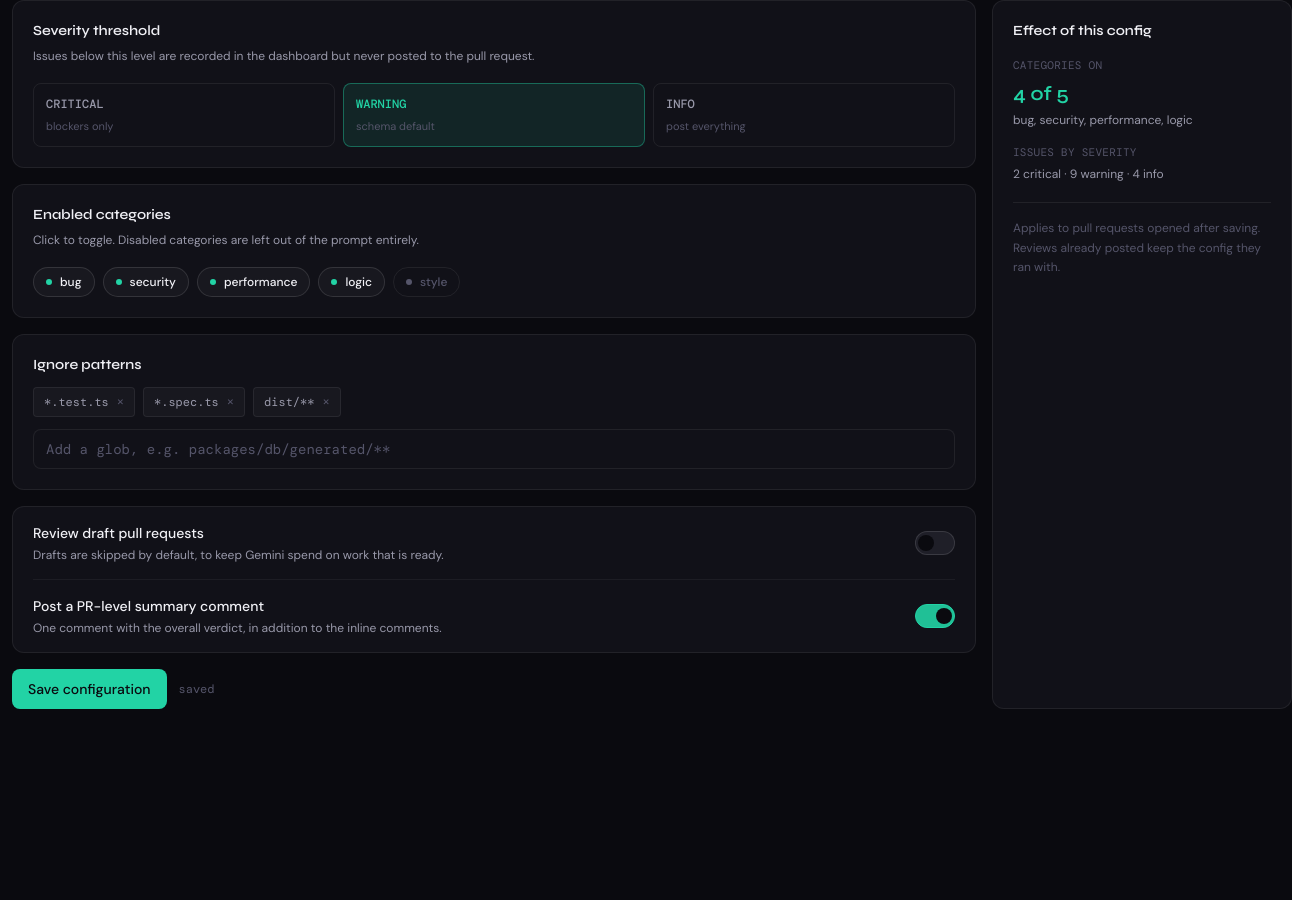
Test: RepoConfigPanel › shows error when all categories are unchecked
Expected: the text "WARNING" is shown, [356,96,406,112]
Click the button "bug".
click(64, 282)  # box [33,266,94,296]
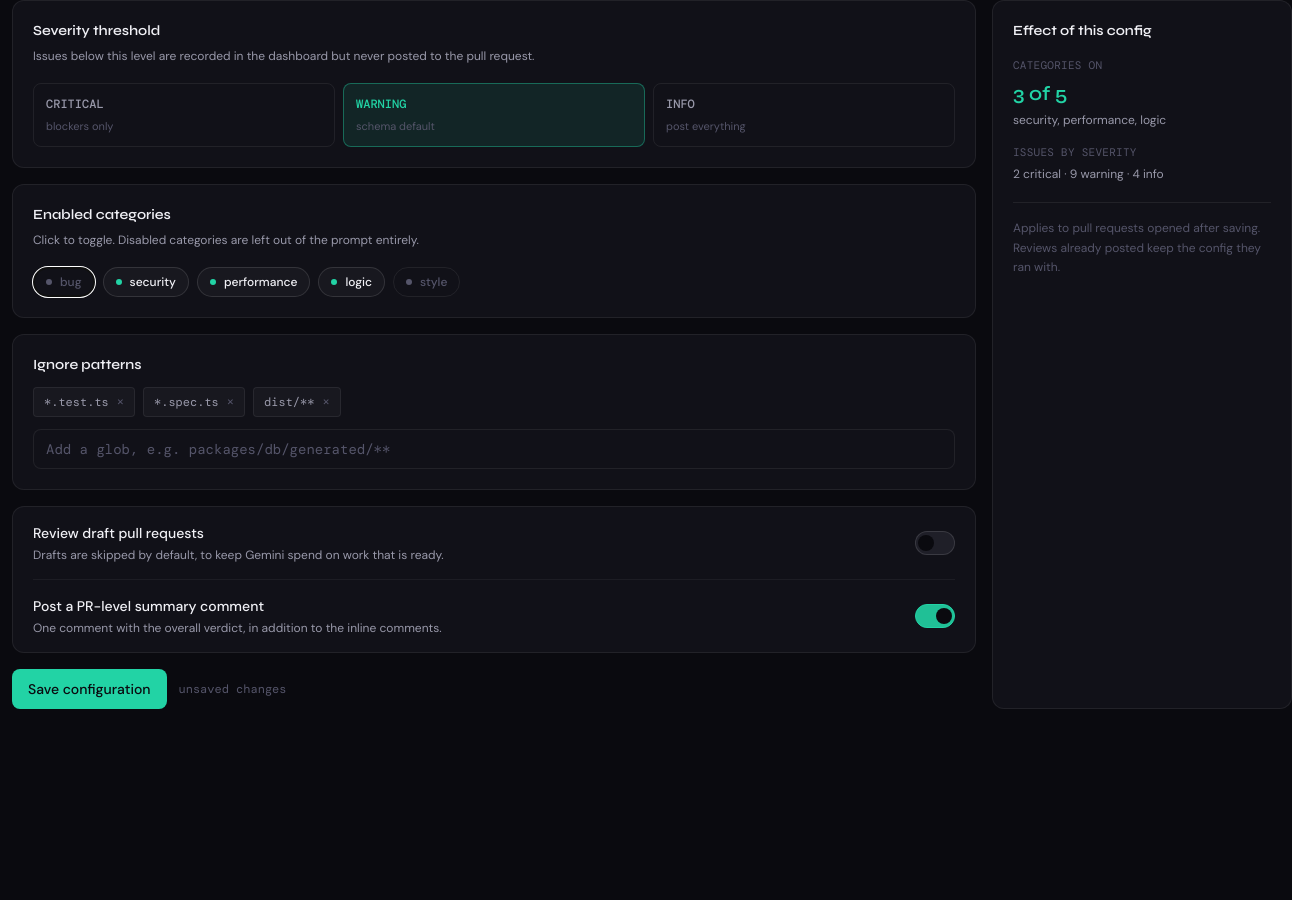
Click the button "security".
click(146, 282)  # box [102,266,189,296]
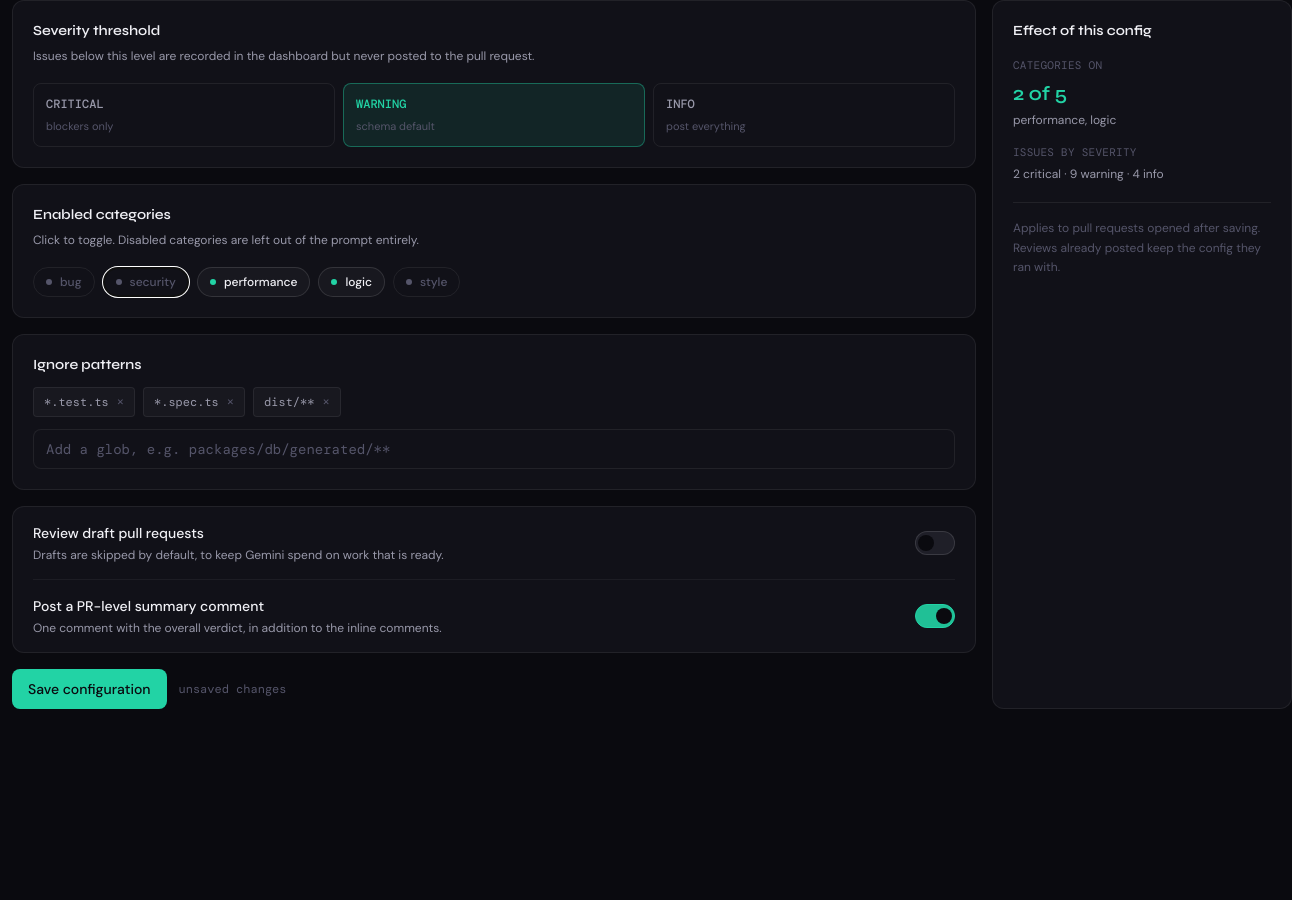
Click the button "performance".
click(254, 282)  # box [197,266,310,296]
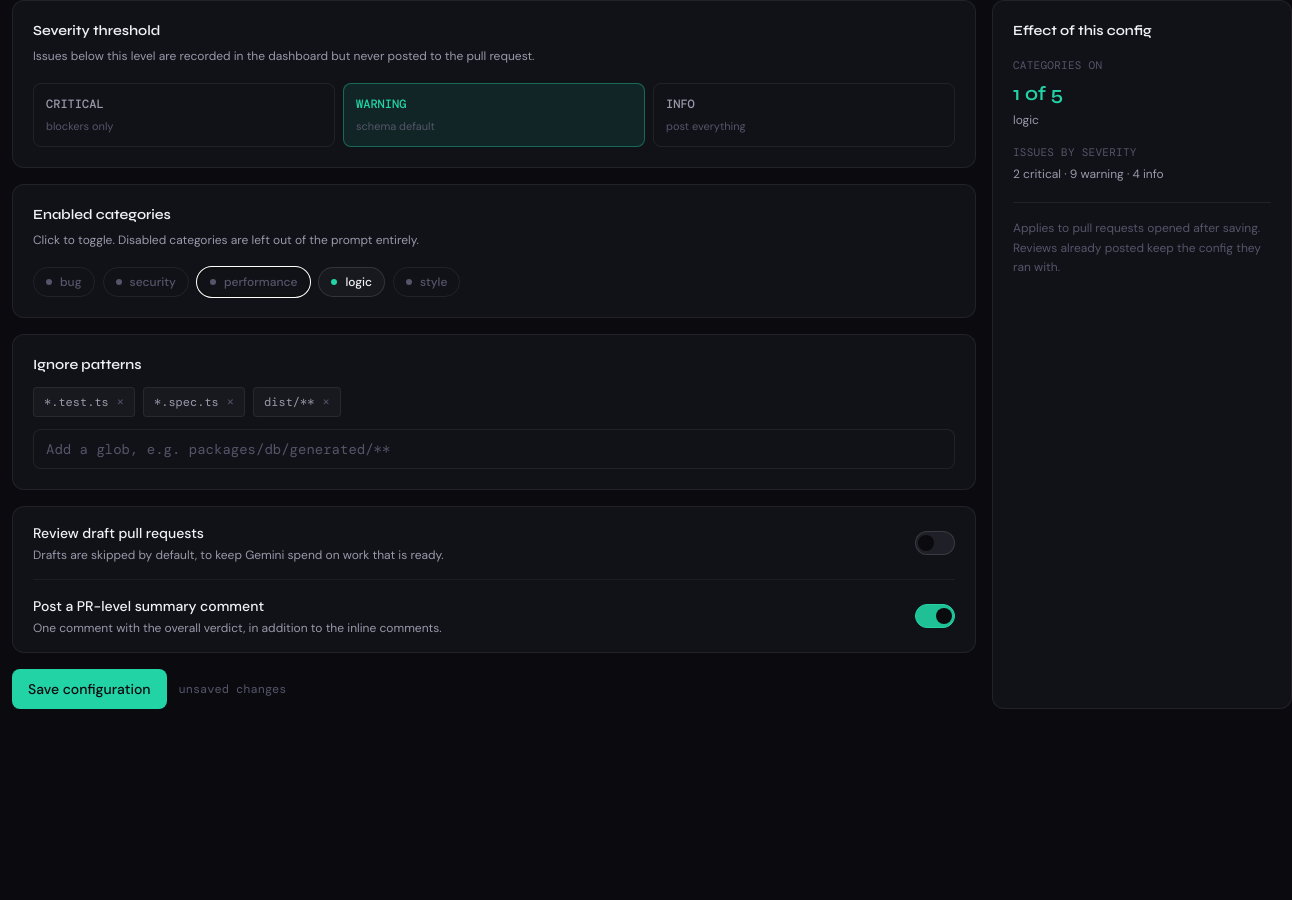
Click the button "logic".
click(352, 282)  # box [318,266,385,296]
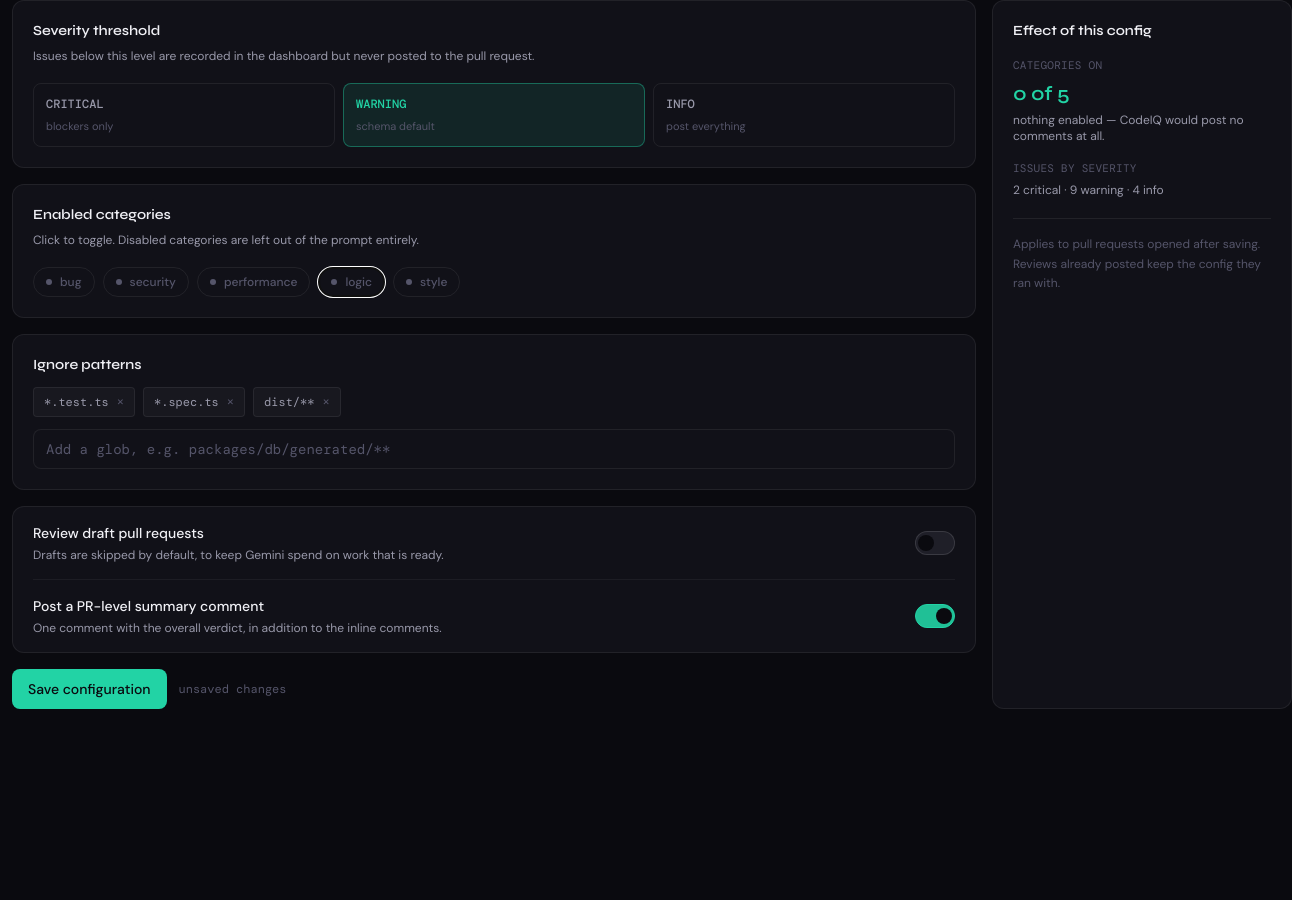
Click the button "Save configuration".
click(89, 688)  # box [12,668,166,708]
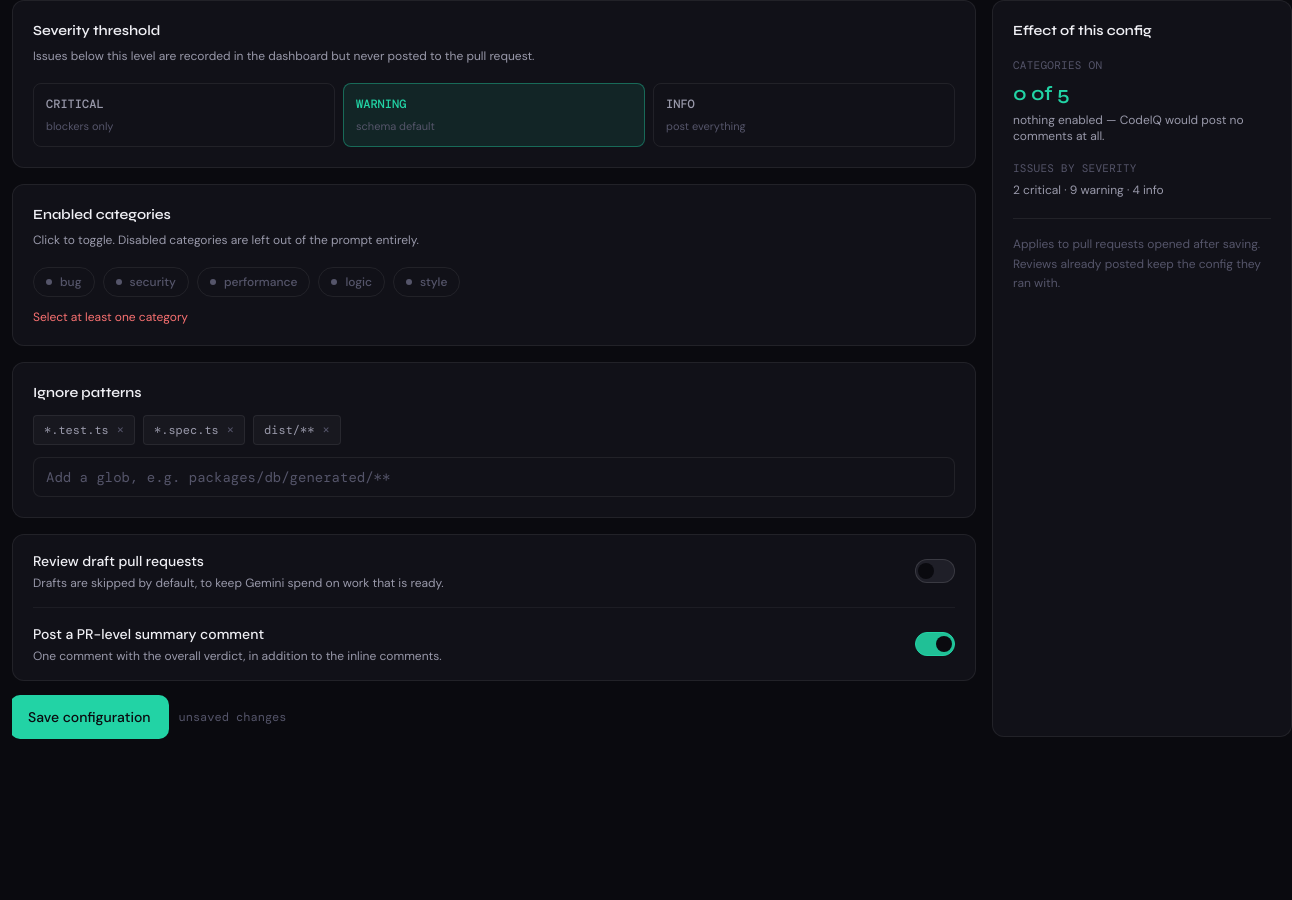
Now the text "Select at least one category" is shown, box [33,308,188,324]
